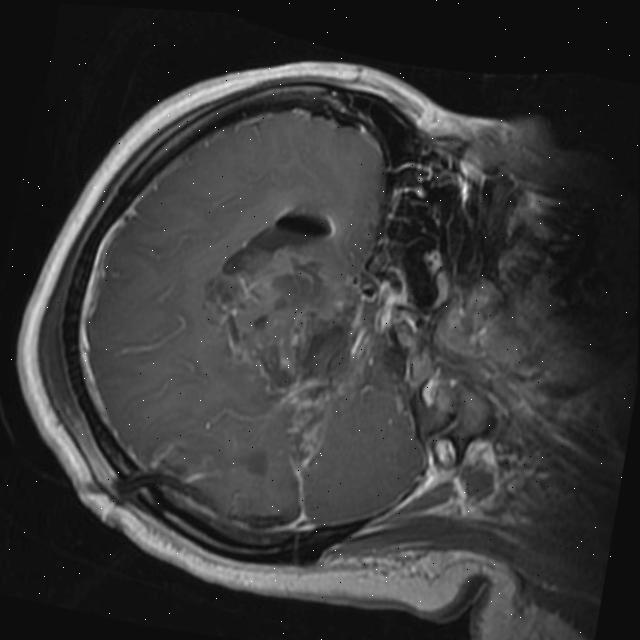Glioma: (188, 227, 330, 396)
